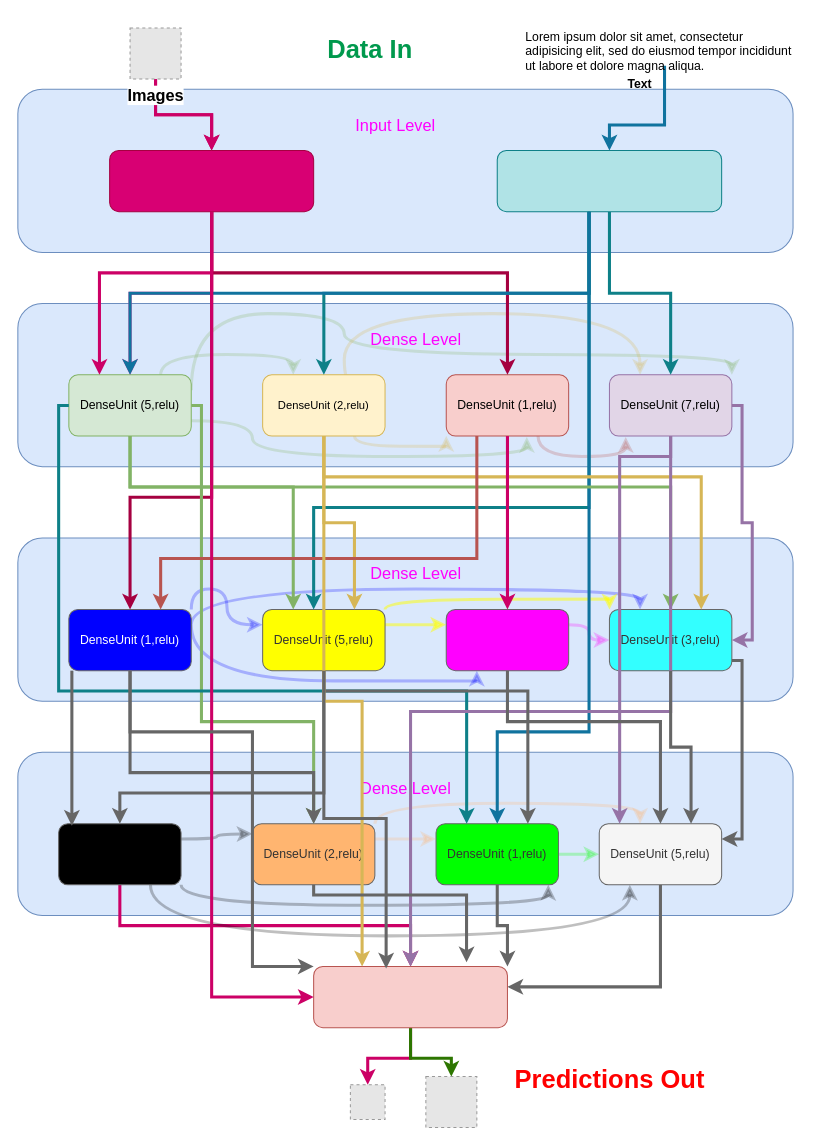
This 821x1145 diagram has some shape labels left out. Grey dashed boxes stand in for pictures. The centre of each missing label's shape, as x and y in pixels:
Dense(1, sigmoid): (410,996)
DenseUnit (4,relu): (119,854)
DenseUnit (6,relu): (507,639)
InputUnit (shape=600,600,3): (211,180)
InputUnit(shape(), dtype=tf.string): (609,180)
